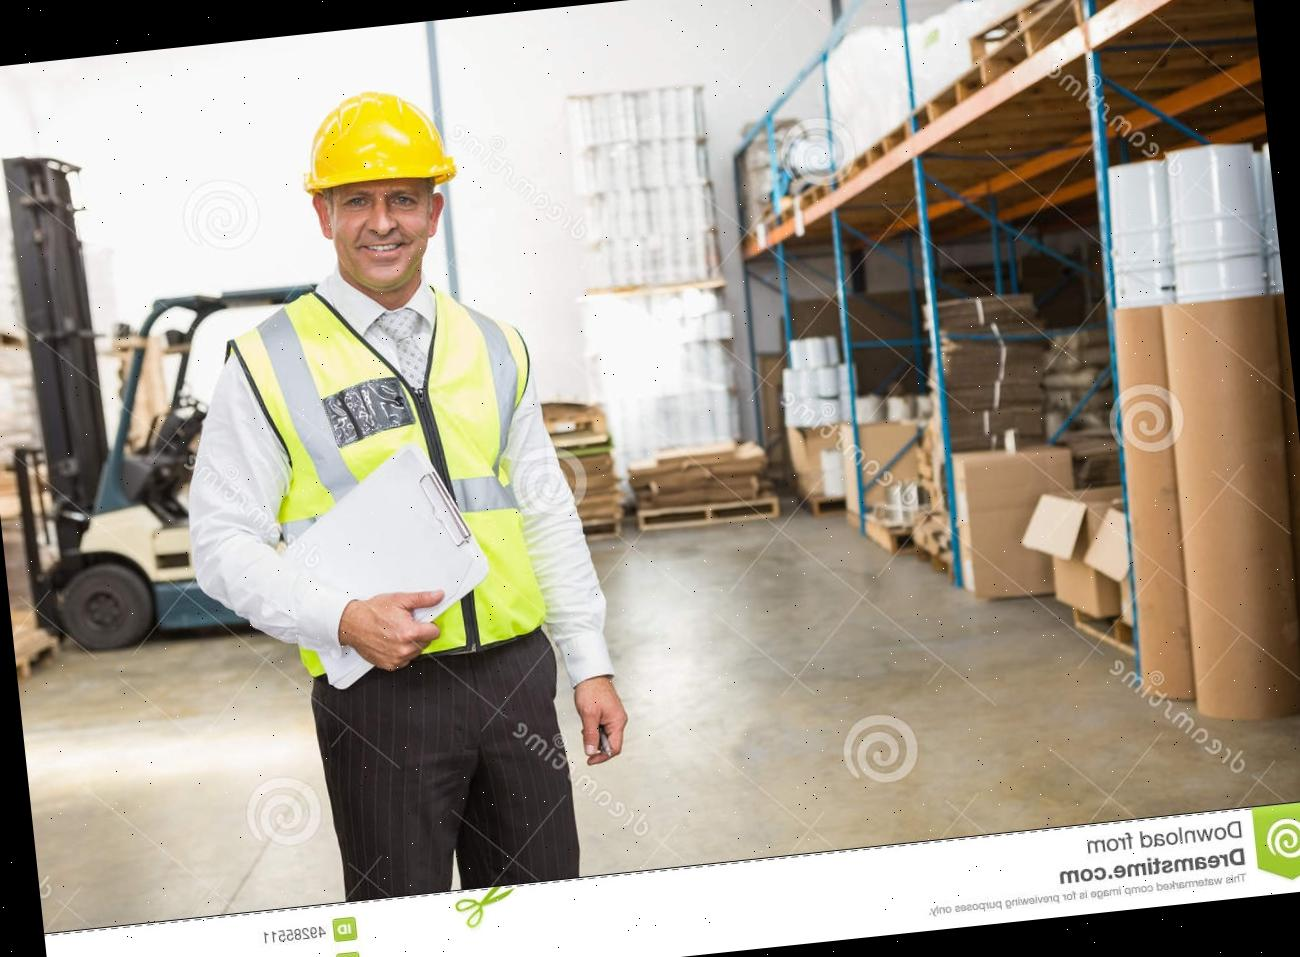helmet: (289, 80, 464, 201)
wear: (223, 276, 554, 680), (1079, 0, 1266, 162)
